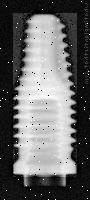Neodent: (13, 13, 77, 177)
